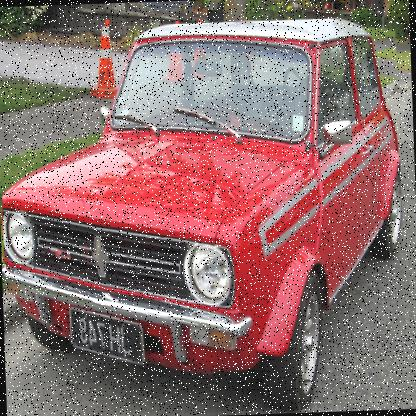Car: (0, 16, 409, 415)
